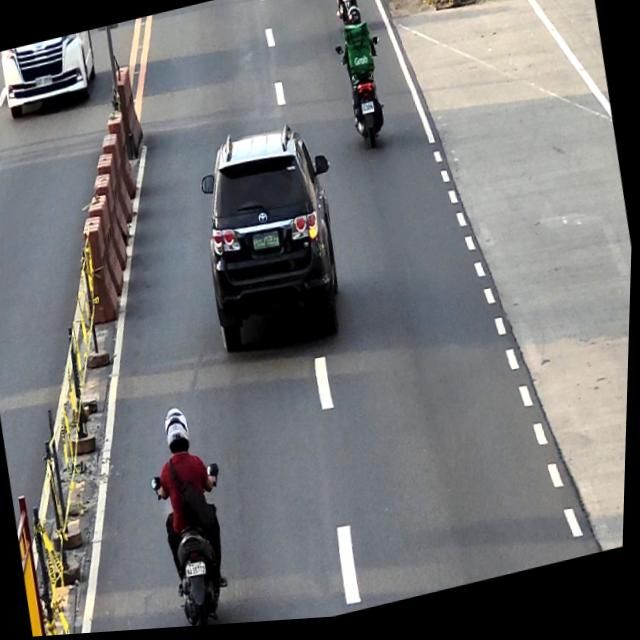Car: (189, 116, 361, 367), (0, 30, 103, 122)
License-Plate: (253, 232, 282, 254), (188, 562, 211, 582), (34, 75, 54, 89), (361, 106, 376, 118), (341, 0, 353, 7)
Motorcycle: (148, 460, 251, 631), (333, 40, 398, 155), (330, 0, 363, 38)
